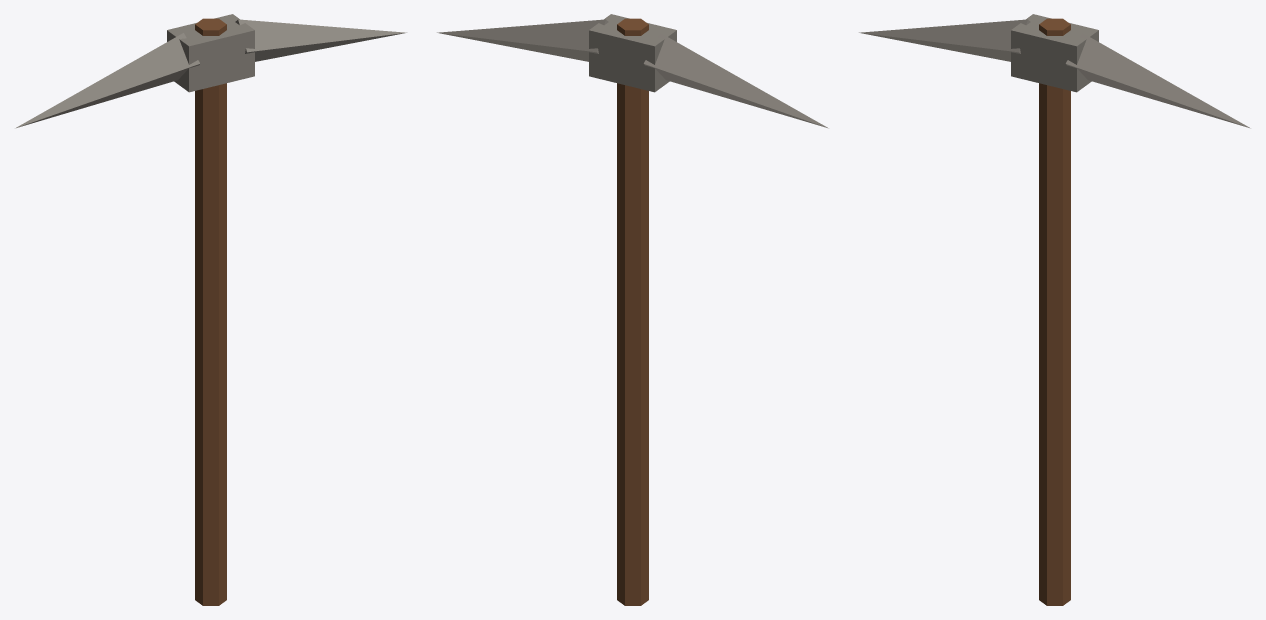
File: stone_pickaxe.glb
The picture shows the model from 3 angles, left to right: view 1: azimuth 30°, elevation 25°; view 2: azimuth 150°, elevation 25°; view 3: azimuth 330°, elevation 25°; orthographic projection.
Visible parts, largest first — view 1: stone_pickaxe; view 2: stone_pickaxe; view 3: stone_pickaxe.
Part boxes in pixels (<box>): stone_pickaxe: <box>15,14,406,605</box>; stone_pickaxe: <box>437,14,828,605</box>; stone_pickaxe: <box>859,14,1250,605</box>.
Bounding box in the file's own units: 0.5149 × 0.72 × 0.0576.
